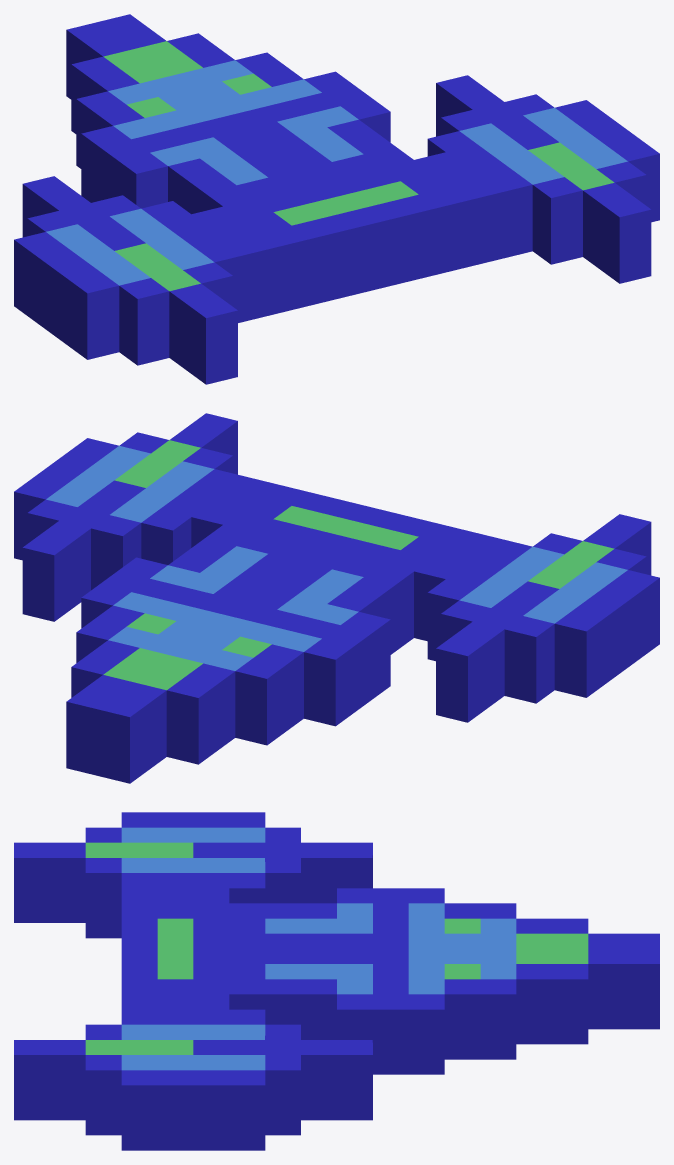
Rendered from Modelos_2_space_invaders 1.fbx.
The picture shows the model from 3 angles, top to bottom: view 1: azimuth 30°, elevation 25°; view 2: azimuth 150°, elevation 25°; view 3: azimuth 270°, elevation 25°; orthographic projection. The views are drawn at different scales.
Visible parts, largest first — view 1: Plane.005; view 2: Plane.005; view 3: Plane.005.
Boxes of the visible parts, x1,y1,x2,y2 form: Plane.005: (14, 14, 659, 384); Plane.005: (14, 413, 659, 783); Plane.005: (14, 812, 659, 1150).
Size of the model in its own units: 900 by 100 by 900.
